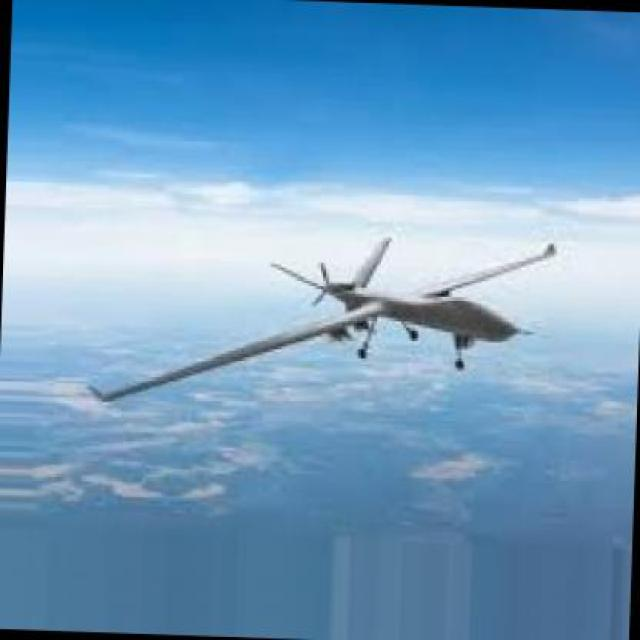iha: (72, 236, 566, 407)
